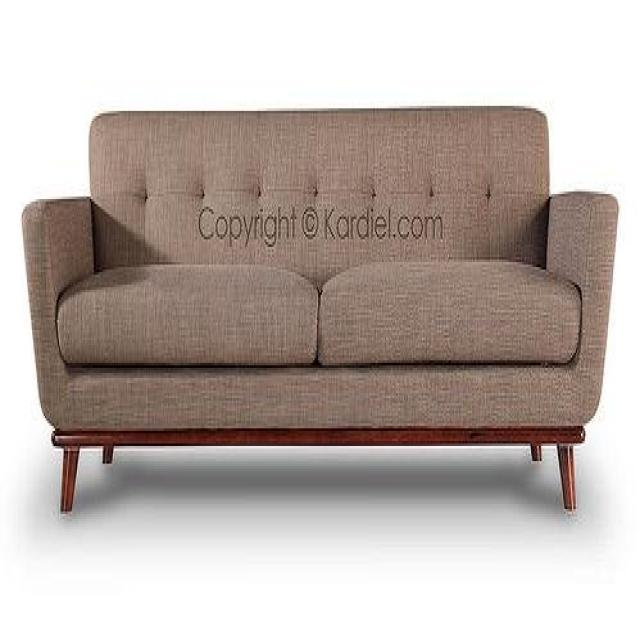sofa: (25, 99, 621, 518)
